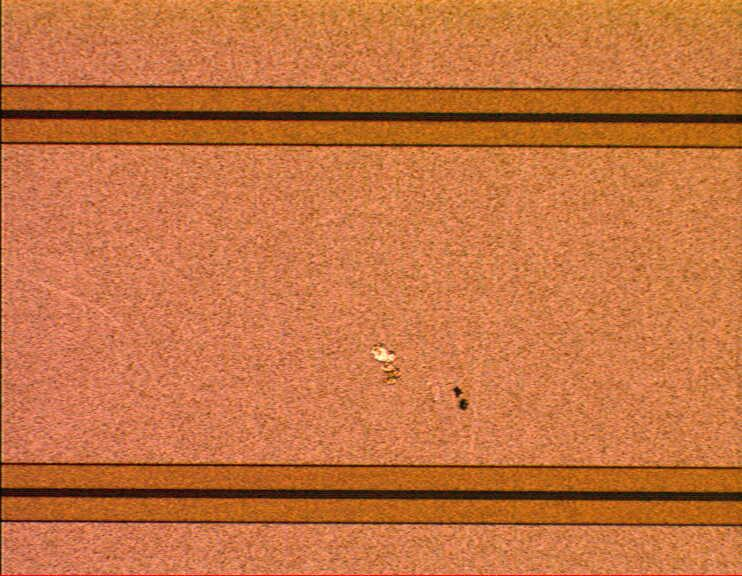SCRATCH: (350, 319, 481, 420)
